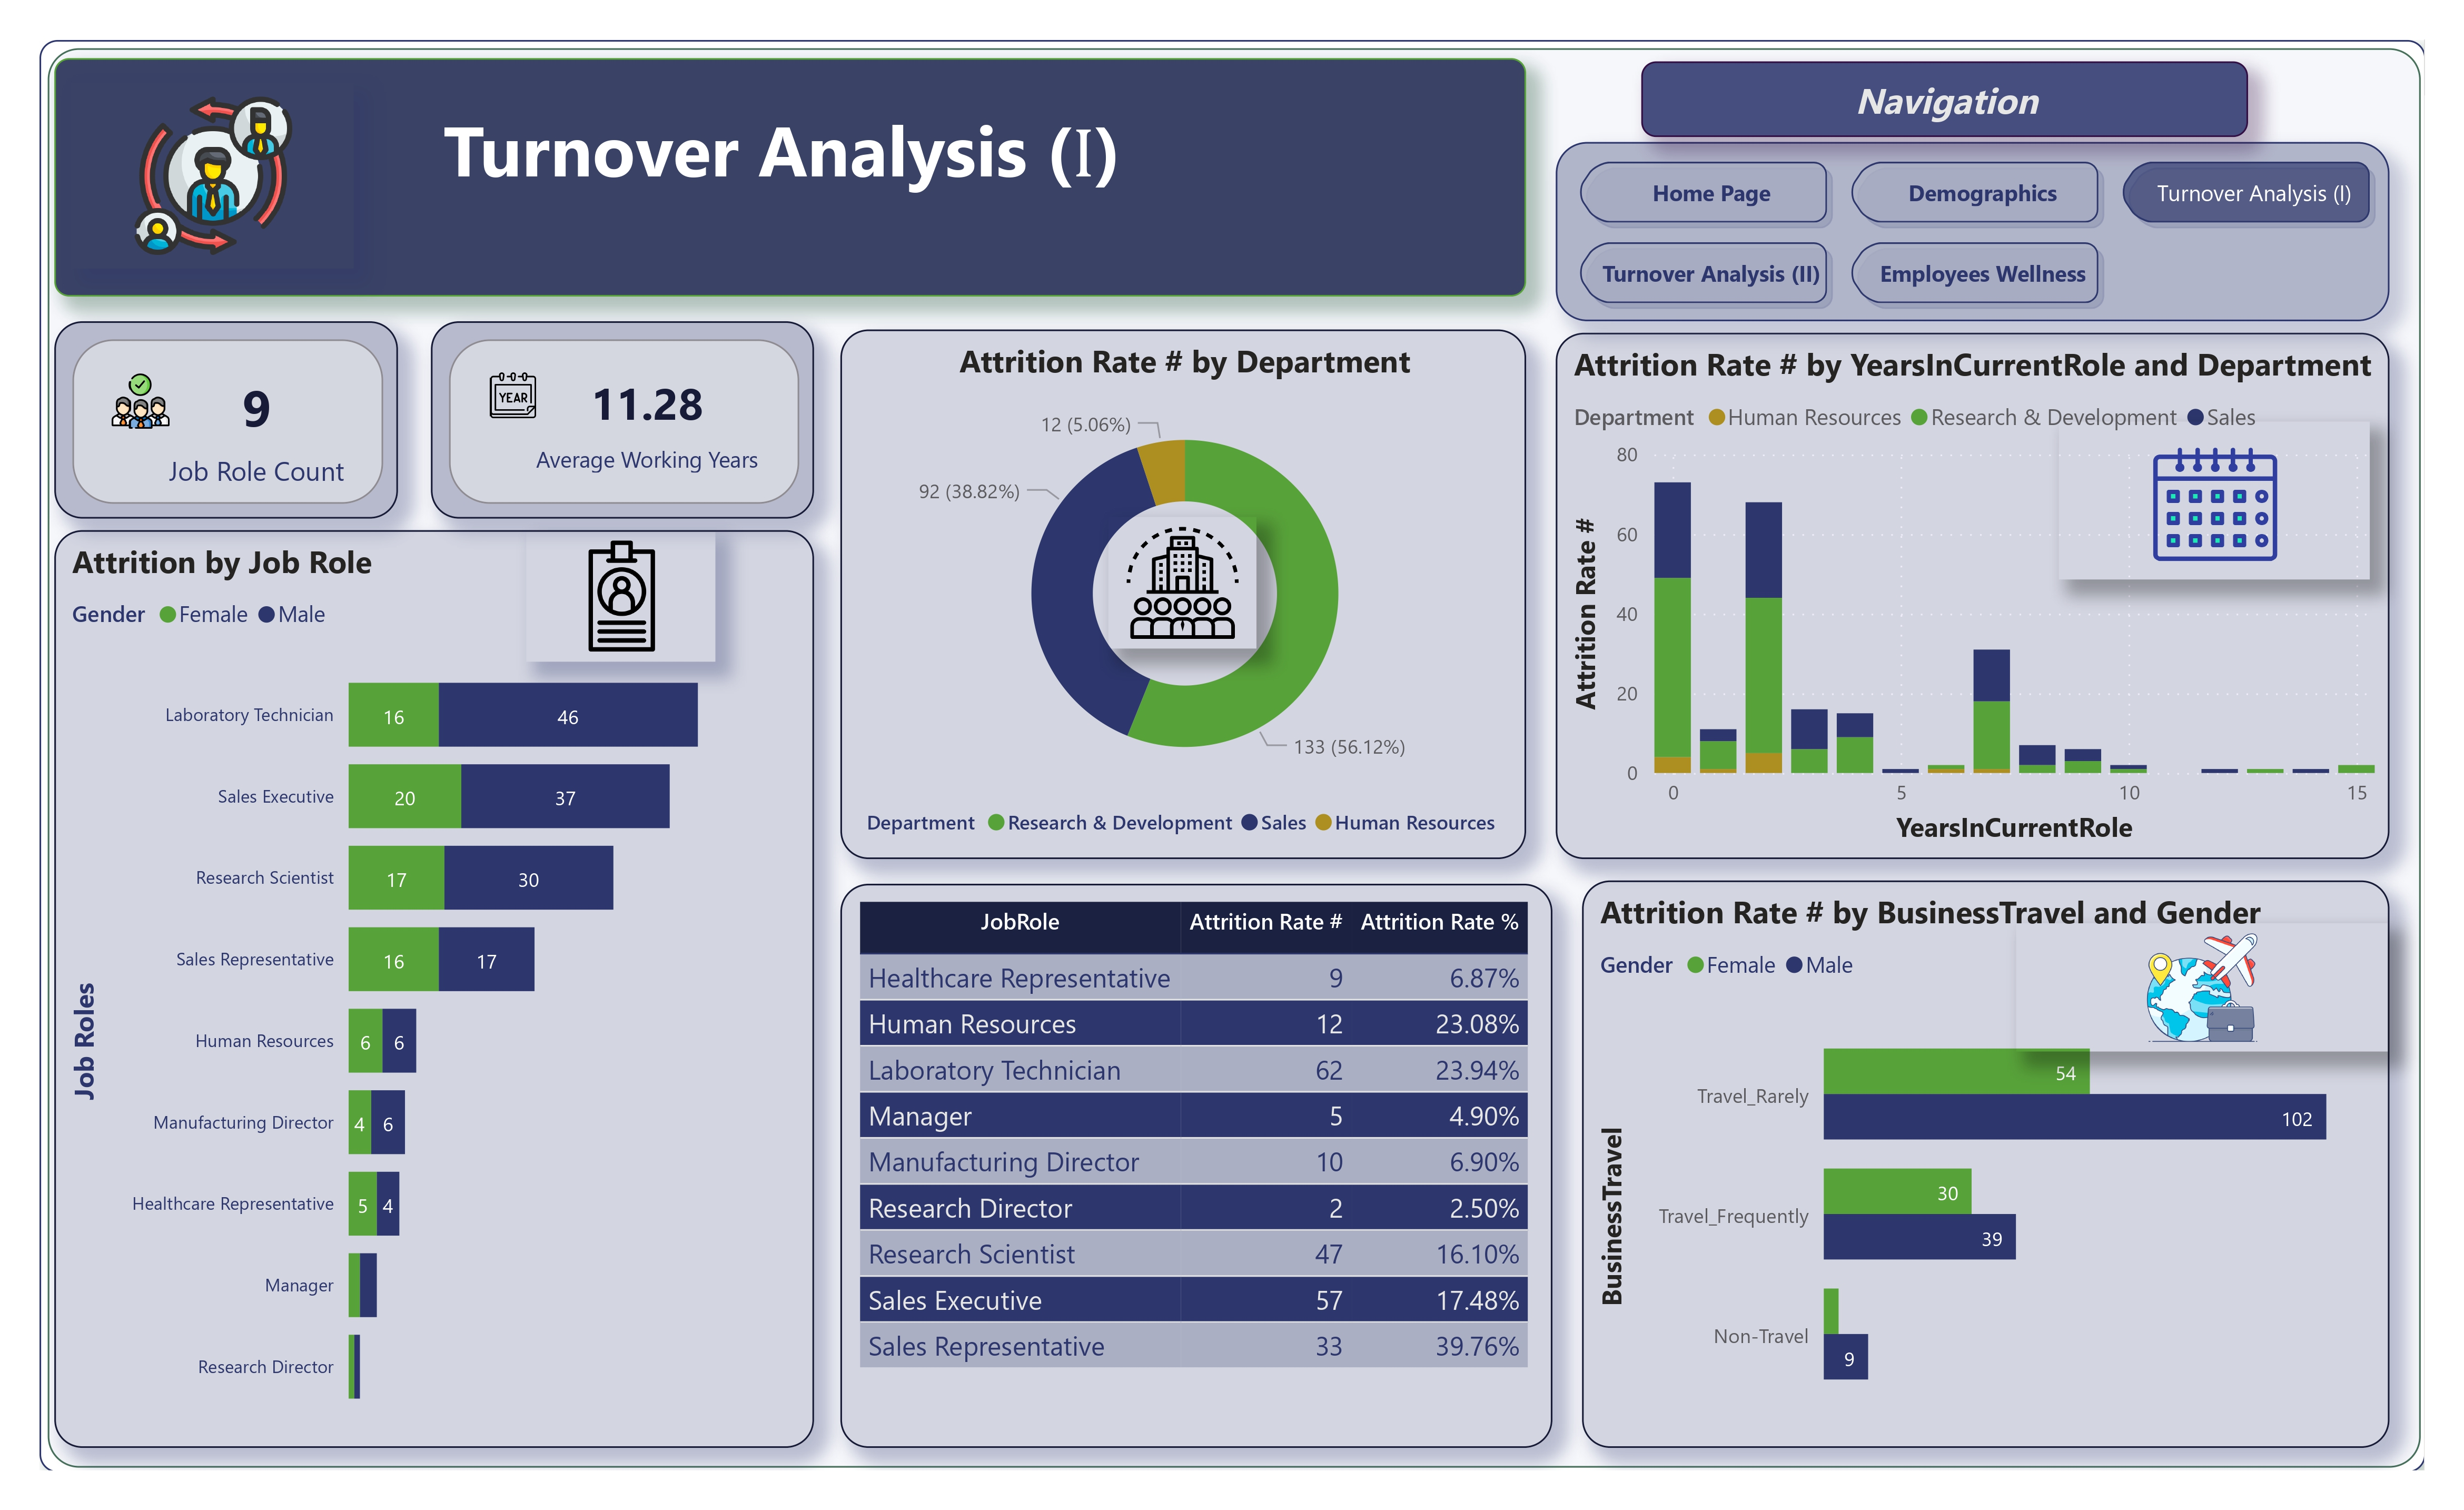

This screenshot's page, from the dashboard's own definition file:
{"tool":"powerbi","page":{"name":"Turnover Analysis (I) ","canvas":[1450,870],"ordinal":3},"visuals":[{"type":"shape","box":[0,0,1451.1,871.1],"z":0},{"type":"textbox","box":[8.9,11.1,895.6,144.4],"z":1000},{"type":"cardVisual","fields":{"Data":["HR-Employee-Attrition.Average Working Years"]},"box":[237.8,171.1,233.3,120],"z":2000},{"type":"cardVisual","fields":{"Data":["HR-Employee-Attrition.Job Role Count"]},"box":[8.9,171.1,208.9,120],"z":3000},{"type":"image","box":[19.2,26.3,171.7,113.1],"z":4000},{"type":"barChart","title":"Attrition by Job Role","fields":{"Category":["HR-Employee-Attrition.JobRole"],"Y":["HR-Employee-Attrition.Attrition Rate #"],"Series":["HR-Employee-Attrition.Gender"]},"box":[8.9,297.8,462.2,557.8],"z":5000},{"type":"image","box":[295.6,297.8,115.6,80],"z":6000},{"type":"donutChart","fields":{"Category":["HR-Employee-Attrition.Department"],"Y":["HR-Employee-Attrition.Attrition Rate #"]},"box":[486.7,175.6,417.8,322.2],"z":7000},{"type":"tableEx","fields":{"Values":["HR-Employee-Attrition.JobRole","HR-Employee-Attrition.Attrition Rate #","HR-Employee-Attrition.Attrition Rate %"]},"box":[486.7,513.3,433.3,342.2],"z":8000},{"type":"columnChart","fields":{"Category":["HR-Employee-Attrition.YearsInCurrentRole"],"Y":["HR-Employee-Attrition.Attrition Rate #"],"Series":["HR-Employee-Attrition.Department"]},"box":[922.2,177.8,506.7,320],"z":9000},{"type":"clusteredBarChart","fields":{"Category":["HR-Employee-Attrition.BusinessTravel"],"Y":["HR-Employee-Attrition.Attrition Rate #"],"Series":["HR-Employee-Attrition.Gender"]},"box":[937.8,511.1,491.1,344.4],"z":10000},{"type":"image","box":[1201.7,536.7,226.7,78.3],"z":11000},{"type":"image","box":[1228.3,231.7,188.3,96.7],"z":12000},{"type":"image","box":[650,290,90,80],"z":13000},{"type":"pageNavigator","box":[922.2,62.2,506.7,108.9],"z":14000},{"type":"textbox","box":[974.5,12.8,368.1,46],"z":15000}]}

Visuals, with their boxes in screenshot pixels (x1, y1, x2, y2):
shape: [45,45,2390,1453]
textbox: [60,63,1507,297]
cardVisual - HR-Employee-Attrition.Average Working Years: [429,321,806,516]
cardVisual - HR-Employee-Attrition.Job Role Count: [60,321,397,516]
image: [76,87,353,270]
"Attrition by Job Role" barChart: [60,526,806,1428]
image: [523,526,709,656]
donutChart - HR-Employee-Attrition.Department x HR-Employee-Attrition.Attrition Rate #: [832,329,1507,850]
tableEx - HR-Employee-Attrition.JobRole x HR-Employee-Attrition.Attrition Rate #: [832,875,1532,1428]
columnChart - HR-Employee-Attrition.YearsInCurrentRole x HR-Employee-Attrition.Attrition Rate #: [1536,332,2354,850]
clusteredBarChart - HR-Employee-Attrition.BusinessTravel x HR-Employee-Attrition.Attrition Rate #: [1561,871,2354,1428]
image: [1987,913,2354,1039]
image: [2031,419,2335,576]
image: [1095,514,1241,643]
pageNavigator: [1536,145,2354,321]
textbox: [1620,66,2215,140]
